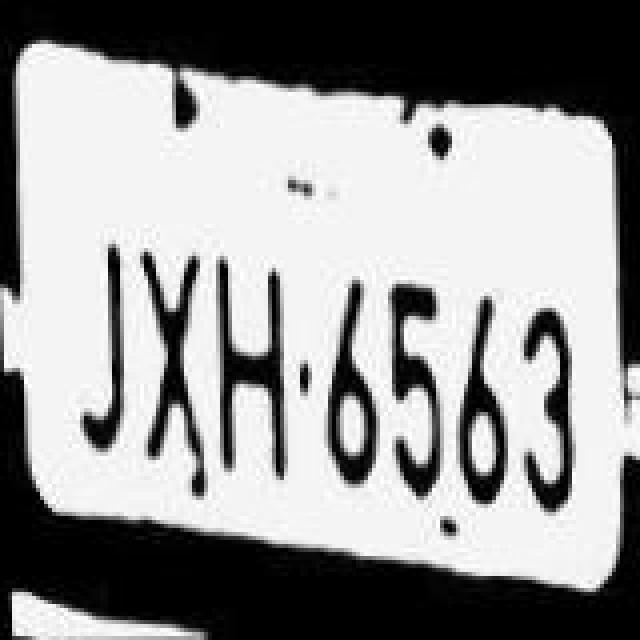3: (506, 264, 586, 528)
5: (378, 258, 450, 514)
6: (312, 256, 380, 516), (448, 274, 516, 510)
H: (214, 248, 302, 504)
J: (72, 220, 136, 468)
X: (130, 214, 206, 478)
